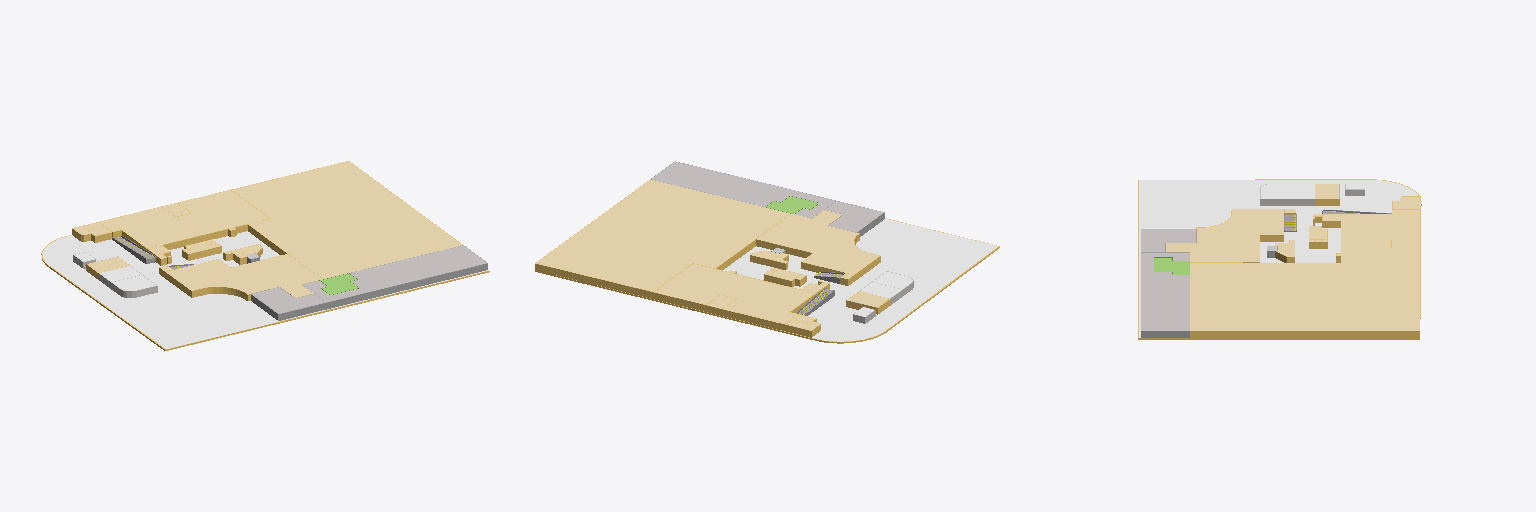
File: logix_noicon_lower_groundfloor.obj
3 renders of one model, left to right at view 1: azimuth 30°, elevation 25°; view 2: azimuth 150°, elevation 25°; view 3: azimuth 270°, elevation 25°, orthographic.
Parts seen in each view (by area): view 1: pasted__polySurface201, Logix_LGF1:pPlane29 Logix_LGF1:polySurface87 pasted__polySurface, Logix_LGF:pPlane29 Logix_LGF:polySurface88 pasted__polySurface20, Logix_LGF:pPlane29 Logix_LGF:polySurface90 pasted__polySurface20, Logix_LGF:pPlane29 Logix_LGF:polySurface74 pasted__polySurface20, Logix_LGF:pPlane29 Logix_LGF:polySurface65 pasted__polySurface20, Logix_LGF:pPlane29 Logix_LGF:polySurface118 pasted__polySurface2; view 2: pasted__polySurface201, Logix_LGF1:pPlane29 Logix_LGF1:polySurface87 pasted__polySurface, Logix_LGF:pPlane29 Logix_LGF:polySurface88 pasted__polySurface20, Logix_LGF:pPlane29 Logix_LGF:polySurface90 pasted__polySurface20, Logix_LGF:pPlane29 Logix_LGF:polySurface74 pasted__polySurface20, Logix_LGF:pPlane29 Logix_LGF:polySurface65 pasted__polySurface20, Logix_LGF:pPlane29 Logix_LGF:polySurface118 pasted__polySurface2; view 3: pasted__polySurface201, Logix_LGF1:pPlane29 Logix_LGF1:polySurface87 pasted__polySurface, Logix_LGF:pPlane29 Logix_LGF:polySurface88 pasted__polySurface20, Logix_LGF:pPlane29 Logix_LGF:polySurface90 pasted__polySurface20, Logix_LGF:pPlane29 Logix_LGF:polySurface74 pasted__polySurface20, Logix_LGF:pPlane29 Logix_LGF:polySurface65 pasted__polySurface20, Logix_LGF:pPlane29 Logix_LGF:polySurface118 pasted__polySurface2.
Boxes of the visible parts, x1=… form: pasted__polySurface201: x1=41, y1=189, x2=489, y2=350; Logix_LGF1:pPlane29 Logix_LGF1:polySurface87 pasted__polySurface: x1=231, y1=161, x2=462, y2=278; Logix_LGF:pPlane29 Logix_LGF:polySurface88 pasted__polySurface20: x1=99, y1=190, x2=268, y2=249; Logix_LGF:pPlane29 Logix_LGF:polySurface90 pasted__polySurface20: x1=251, y1=245, x2=486, y2=319; Logix_LGF:pPlane29 Logix_LGF:polySurface74 pasted__polySurface20: x1=165, y1=254, x2=322, y2=300; Logix_LGF:pPlane29 Logix_LGF:polySurface65 pasted__polySurface20: x1=86, y1=228, x2=236, y2=279; Logix_LGF:pPlane29 Logix_LGF:polySurface118 pasted__polySurface2: x1=99, y1=266, x2=157, y2=297; pasted__polySurface201: x1=535, y1=201, x2=999, y2=343; Logix_LGF1:pPlane29 Logix_LGF1:polySurface87 pasted__polySurface: x1=535, y1=179, x2=789, y2=298; Logix_LGF:pPlane29 Logix_LGF:polySurface88 pasted__polySurface20: x1=654, y1=263, x2=815, y2=325; Logix_LGF:pPlane29 Logix_LGF:polySurface90 pasted__polySurface20: x1=651, y1=161, x2=884, y2=236; Logix_LGF:pPlane29 Logix_LGF:polySurface74 pasted__polySurface20: x1=756, y1=210, x2=880, y2=281; Logix_LGF:pPlane29 Logix_LGF:polySurface65 pasted__polySurface20: x1=729, y1=267, x2=890, y2=314; Logix_LGF:pPlane29 Logix_LGF:polySurface118 pasted__polySurface2: x1=861, y1=271, x2=913, y2=304; pasted__polySurface201: x1=1138, y1=179, x2=1421, y2=339; Logix_LGF1:pPlane29 Logix_LGF1:polySurface87 pasted__polySurface: x1=1190, y1=262, x2=1419, y2=337; Logix_LGF:pPlane29 Logix_LGF:polySurface88 pasted__polySurface20: x1=1341, y1=209, x2=1419, y2=273; Logix_LGF:pPlane29 Logix_LGF:polySurface90 pasted__polySurface20: x1=1141, y1=229, x2=1196, y2=330; Logix_LGF:pPlane29 Logix_LGF:polySurface74 pasted__polySurface20: x1=1166, y1=209, x2=1283, y2=262; Logix_LGF:pPlane29 Logix_LGF:polySurface65 pasted__polySurface20: x1=1284, y1=184, x2=1340, y2=262; Logix_LGF:pPlane29 Logix_LGF:polySurface118 pasted__polySurface2: x1=1260, y1=184, x2=1314, y2=205.
Size of the model in its own units: 31.79 by 0.7822 by 23.9.